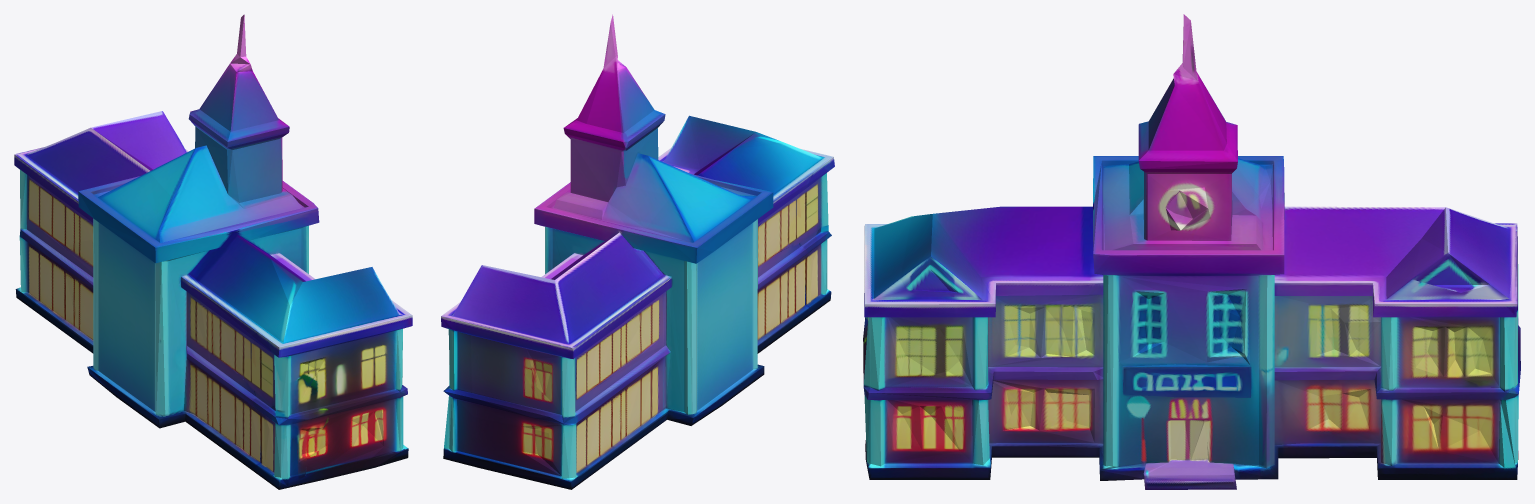
Rendered from school.glb.
3 views of the same model, side by side, from view 1: azimuth 30°, elevation 25°; view 2: azimuth 150°, elevation 25°; view 3: azimuth 270°, elevation 25° (orthographic). The views are drawn at different scales.
Visible parts, largest first — view 1: tripo_node_67931c6b-c0a9-4c8a-bbfa-4b21c1f4a80f; view 2: tripo_node_67931c6b-c0a9-4c8a-bbfa-4b21c1f4a80f; view 3: tripo_node_67931c6b-c0a9-4c8a-bbfa-4b21c1f4a80f.
Part boxes in pixels (x1,y1,x2,y2): tripo_node_67931c6b-c0a9-4c8a-bbfa-4b21c1f4a80f: (14, 14, 412, 489); tripo_node_67931c6b-c0a9-4c8a-bbfa-4b21c1f4a80f: (441, 14, 834, 489); tripo_node_67931c6b-c0a9-4c8a-bbfa-4b21c1f4a80f: (863, 14, 1520, 489).
Bounding box in the file's own units: 2.76 × 5.23 × 7.01.
Materials: 1 (1 with a texture image).
